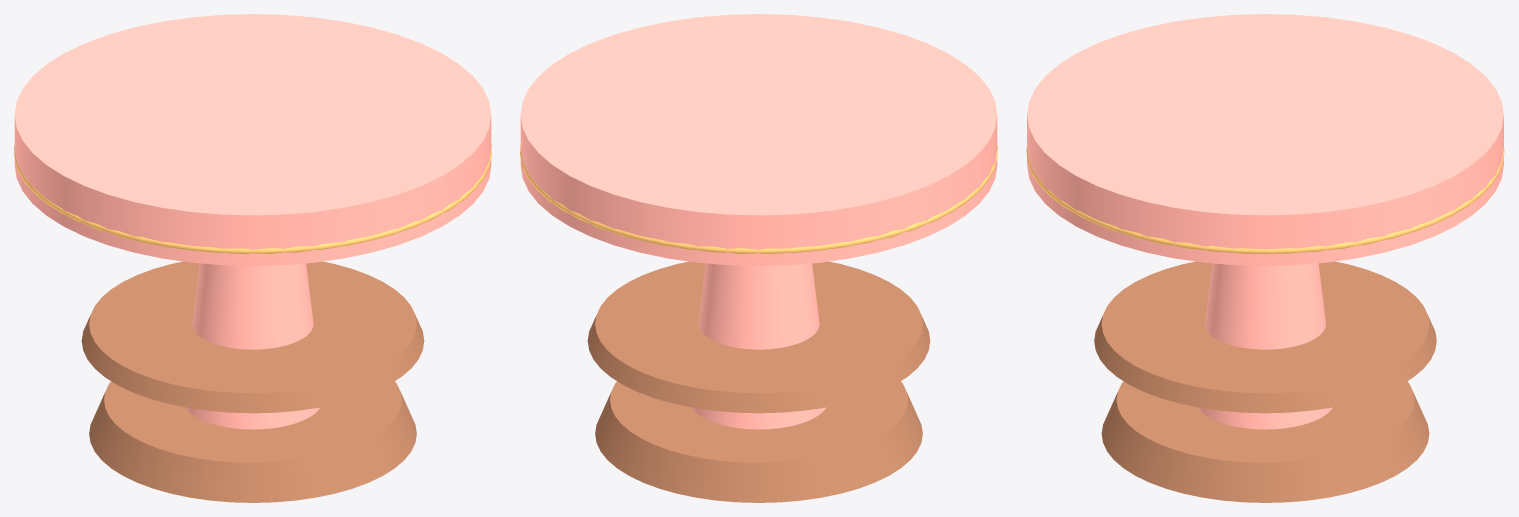
File: coral_sidecar.glb
The picture shows the model from 3 angles, left to right: view 1: azimuth 30°, elevation 25°; view 2: azimuth 150°, elevation 25°; view 3: azimuth 270°, elevation 25°; orthographic projection.
Visible parts, largest first — view 1: coral_sidecar; view 2: coral_sidecar; view 3: coral_sidecar.
Boxes of the visible parts, x1,y1,x2,y2 form: coral_sidecar: [14, 14, 491, 502]; coral_sidecar: [520, 14, 997, 502]; coral_sidecar: [1026, 14, 1504, 502].
Bounding box in the file's own units: 0.642 × 0.4725 × 0.642.
